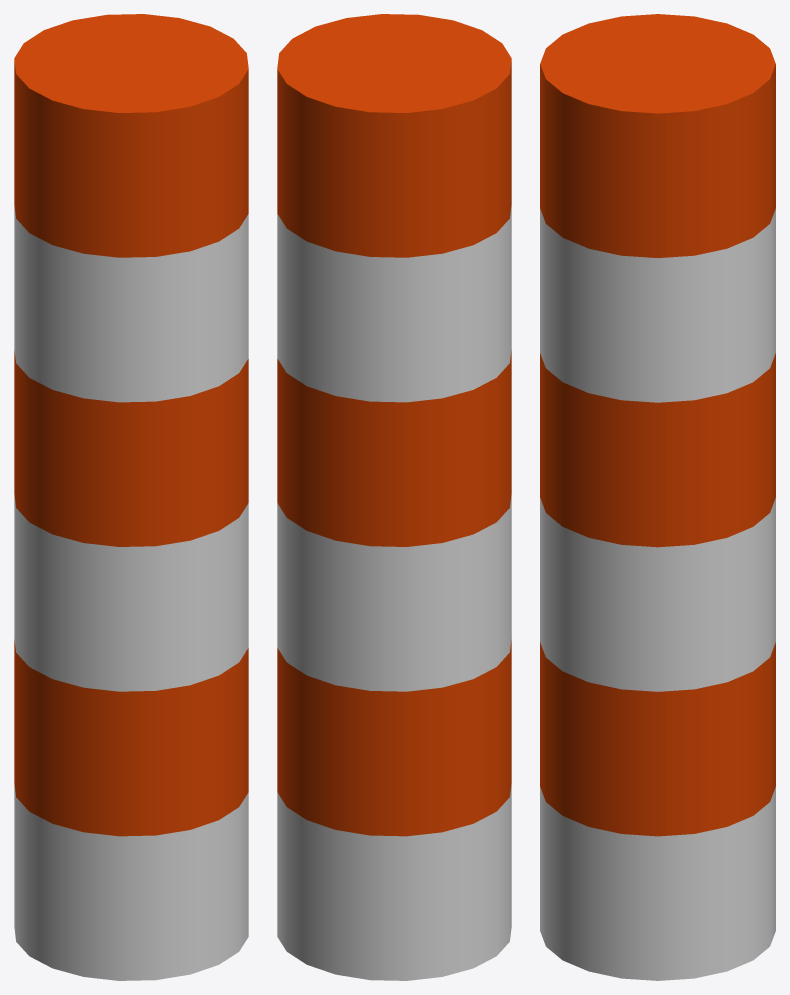
File: Environment_Some-red-thing.fbx
The picture shows the model from 3 angles, left to right: view 1: azimuth 30°, elevation 25°; view 2: azimuth 150°, elevation 25°; view 3: azimuth 270°, elevation 25°; orthographic projection.
Parts seen in each view (by area): view 1: Some_red_thing; view 2: Some_red_thing; view 3: Some_red_thing.
Boxes of the visible parts, bbox=[...] form: Some_red_thing: bbox=[14, 14, 248, 980]; Some_red_thing: bbox=[277, 14, 511, 980]; Some_red_thing: bbox=[540, 14, 775, 980].
Size of the model in its own units: 0.3635 by 1.48 by 0.3635.
